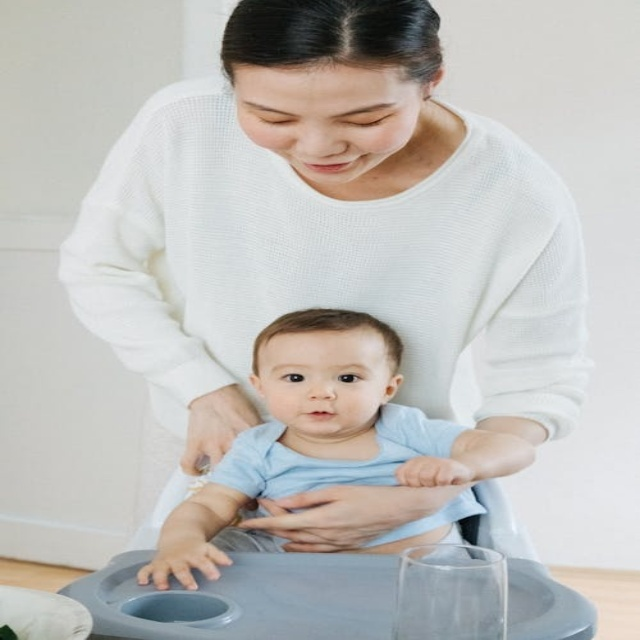Sin_gafas: (234, 94, 406, 139), (269, 358, 374, 392)
Sin_guantes: (241, 479, 467, 552), (134, 528, 242, 595), (389, 447, 477, 492)
Sin_mascara: (278, 150, 376, 183), (289, 404, 353, 428)
